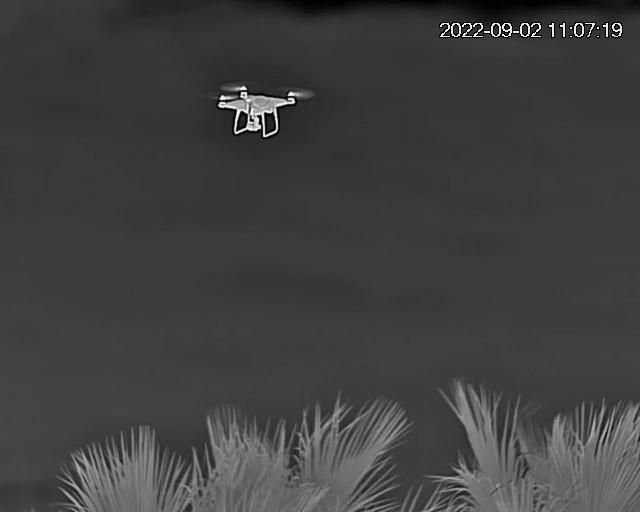DJI-Phantom: (217, 81, 313, 137)
